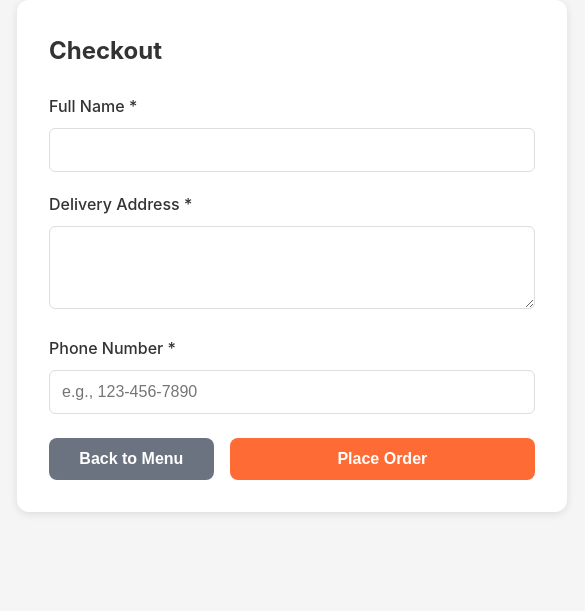
Scenario: CheckoutForm › shows error for short name
Type "A" into the field labelled "Full Name *" at (292, 150), box x1=49 y1=128 x2=535 y2=172
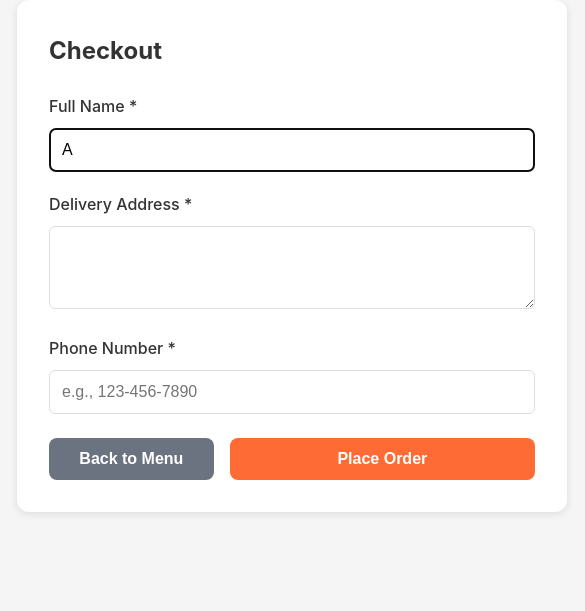
Click the button "Place Order" at (382, 459), box x1=230 y1=438 x2=535 y2=480
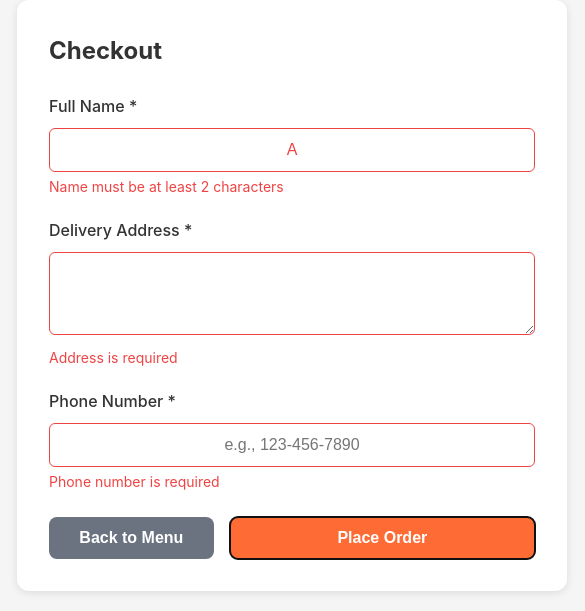
Now the text "Name must be at least 2 characters" is shown, box x1=49 y1=178 x2=284 y2=195
